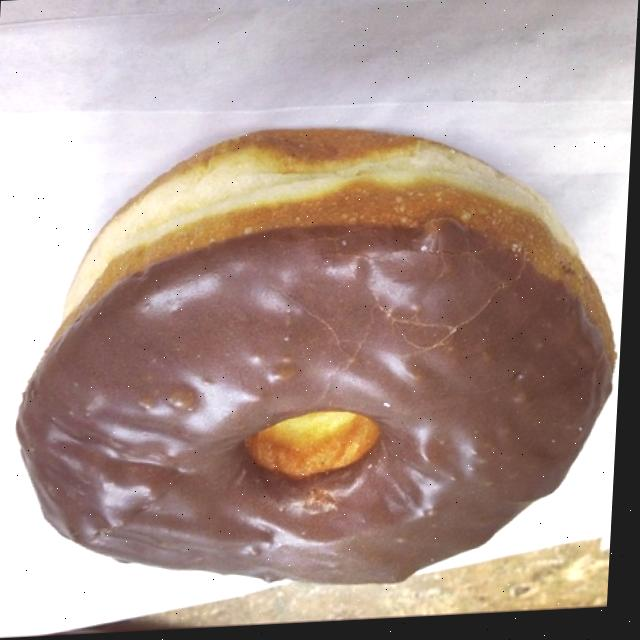炸货点心: (0, 105, 625, 611)
